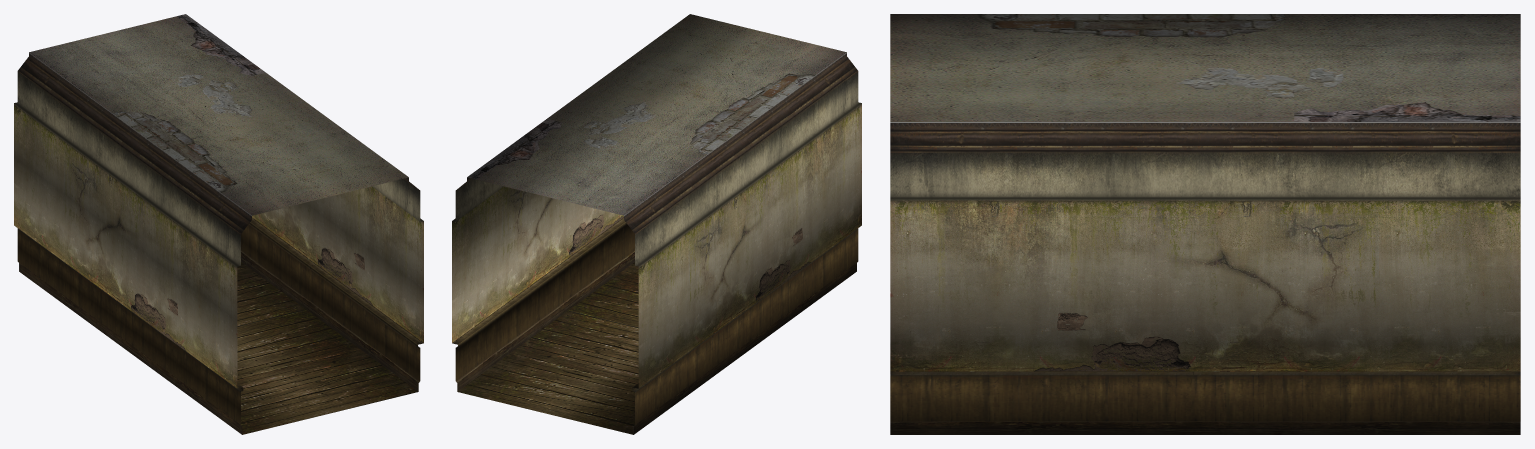
Rendered from passage.FBX.
The picture shows the model from 3 angles, left to right: view 1: azimuth 30°, elevation 25°; view 2: azimuth 150°, elevation 25°; view 3: azimuth 270°, elevation 25°; orthographic projection. The views are drawn at different scales.
Visible parts, largest first — view 1: Box001; view 2: Box001; view 3: Box001.
Part boxes in pixels (box(x1,y1,x2,y2)): Box001: box(14, 14, 423, 434); Box001: box(452, 14, 861, 434); Box001: box(890, 14, 1520, 434).
Size of the model in its own units: 70.23 by 77.98 by 145.
